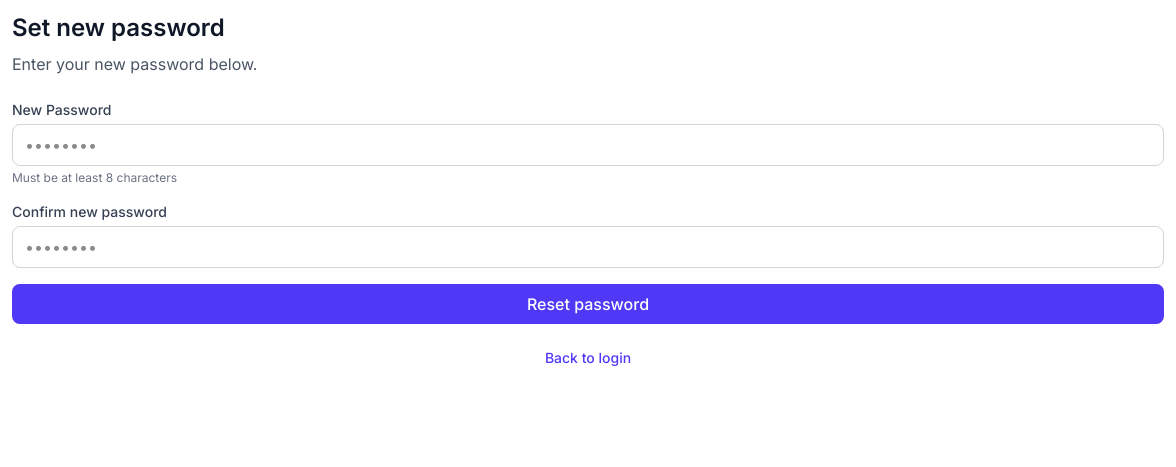
Reset Password Page › Form Submission › submits form with valid password
Type "newpassword123" into the password field labelled "New Password".
click(588, 145); type("newpassword123")  # box [12,124,1164,166]
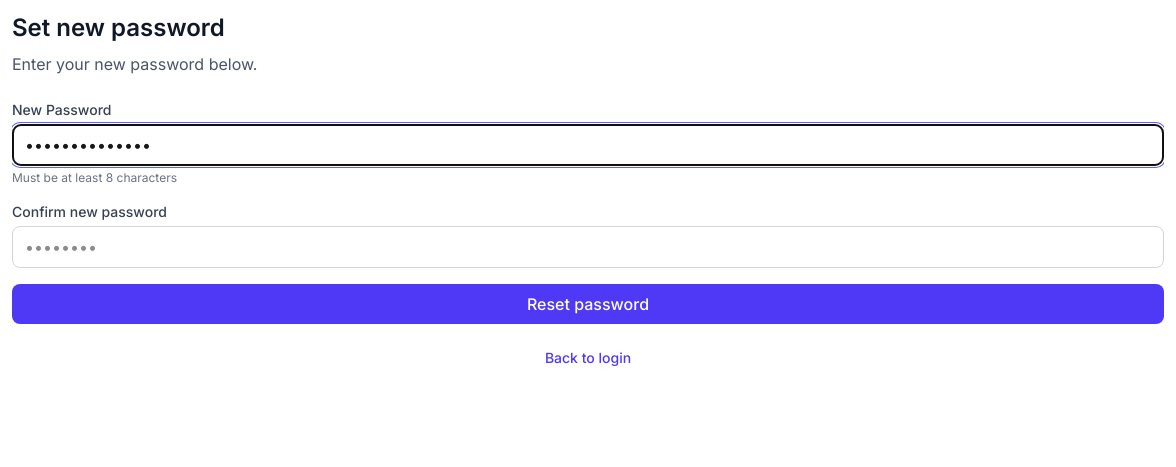
Type "newpassword123" into the password field labelled "Confirm new password".
click(588, 247); type("newpassword123")  # box [12,226,1164,268]
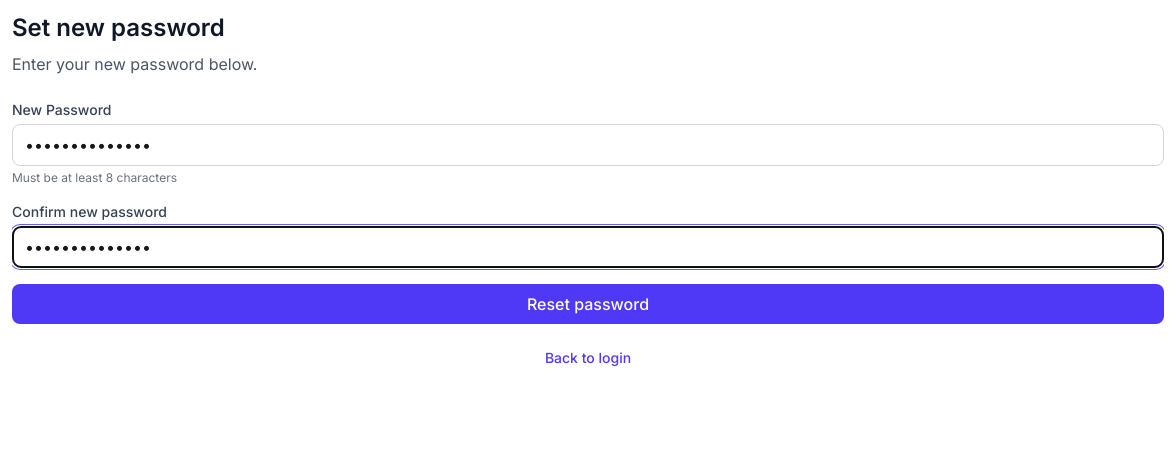
Click the button "Reset password".
click(588, 304)  # box [12,284,1164,324]
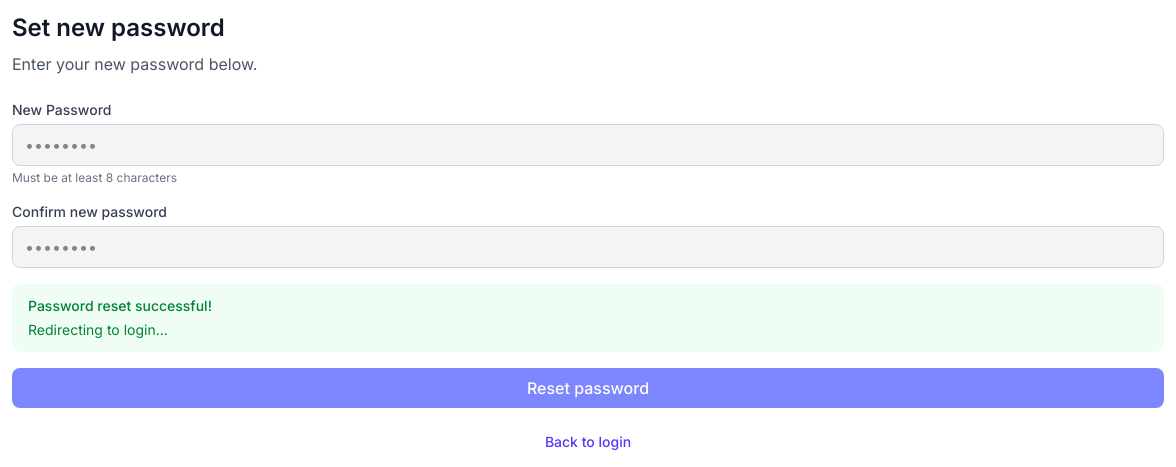
Expected: the text "Password reset successful!" is shown, [28,297,212,314]
